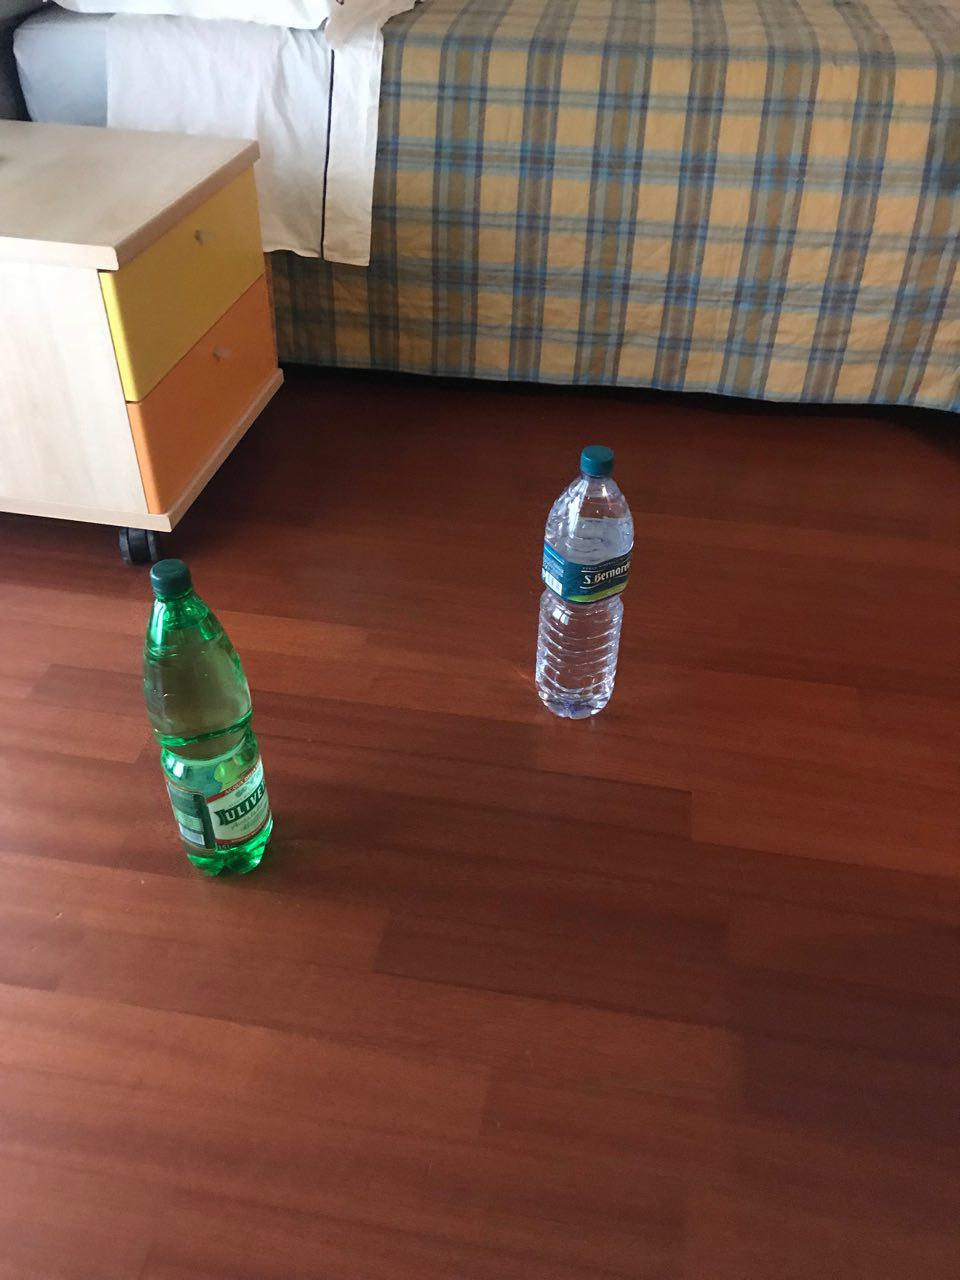san_bernardo: (534, 444, 634, 720)
